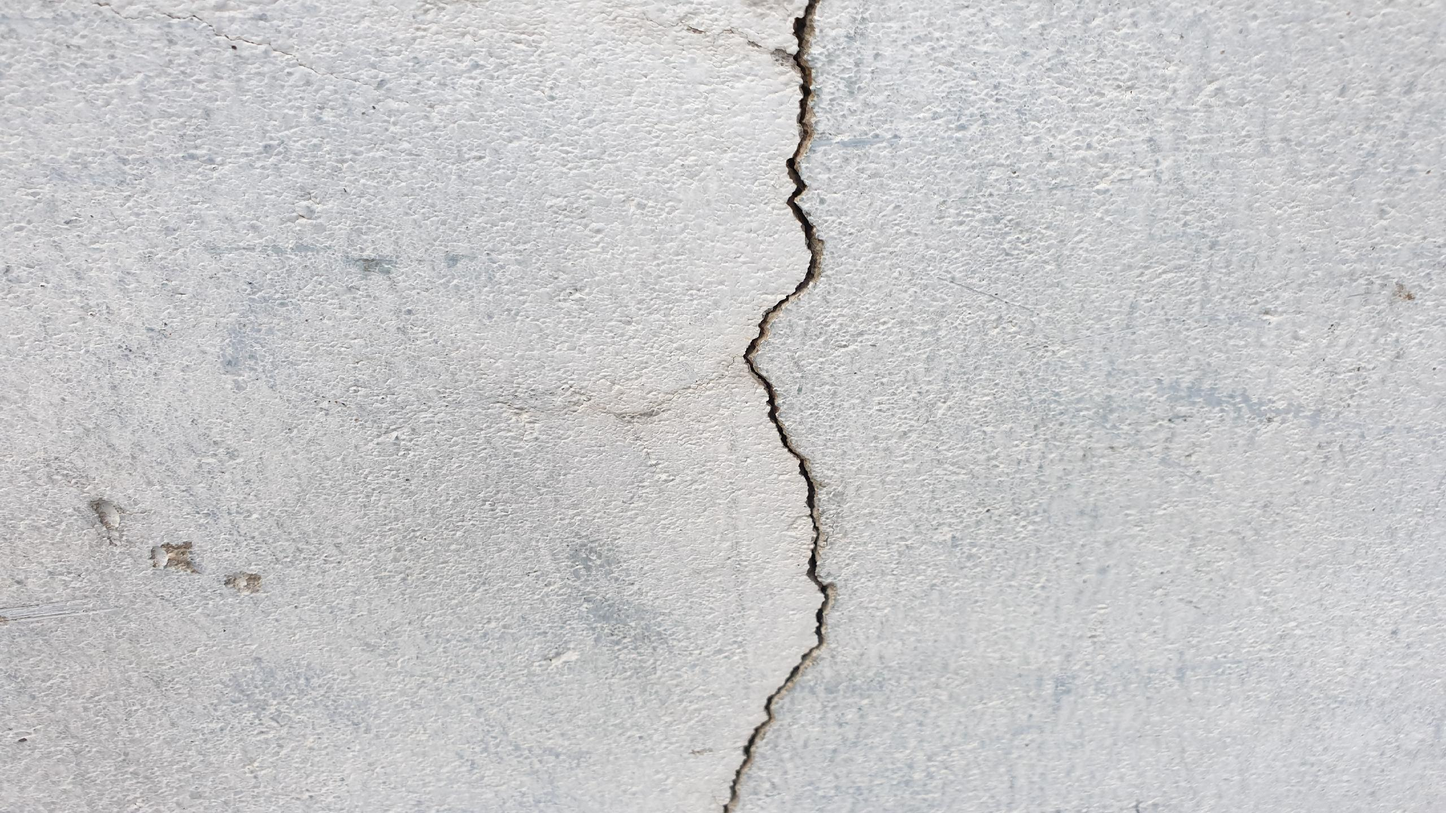crack: (722, 0, 830, 809)
